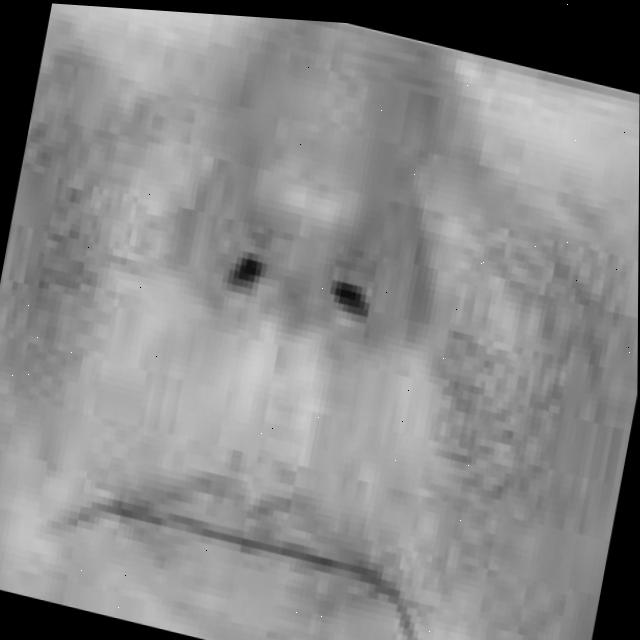Rosacea: (372, 91, 640, 640), (0, 63, 144, 400), (272, 37, 412, 208)
